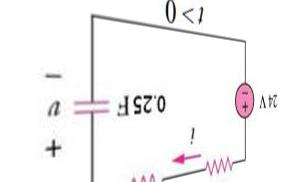resistor: (199, 158, 236, 175)
